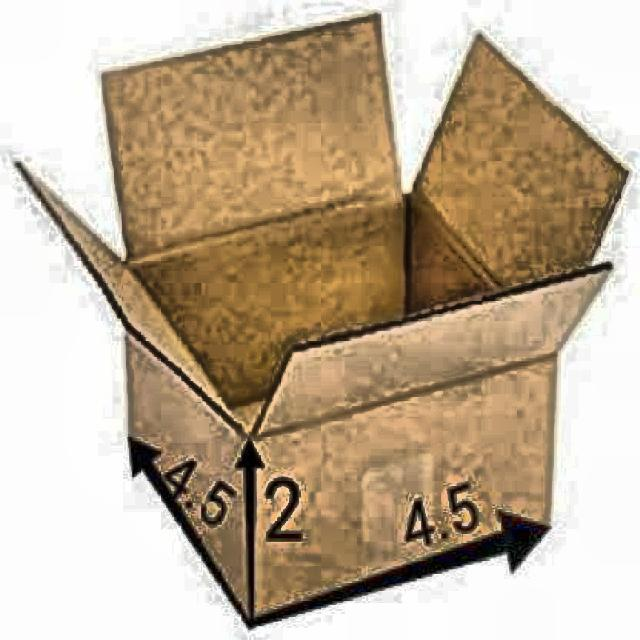Cardbox: (64, 0, 640, 621)
